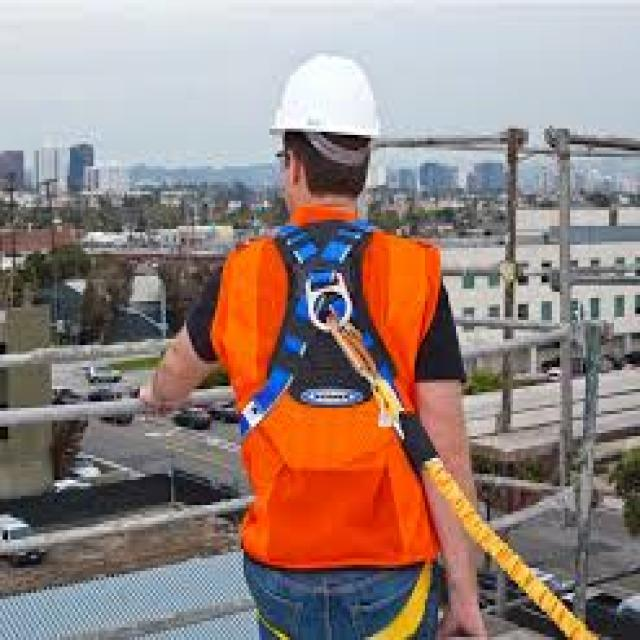harness: (301, 274, 614, 640)
